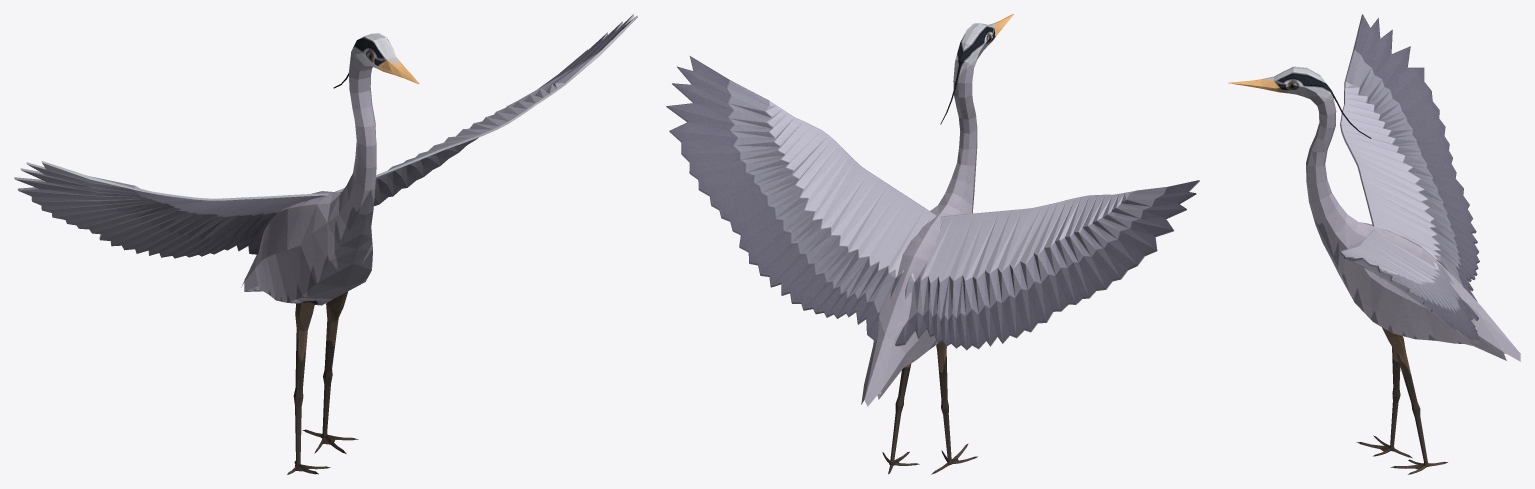
The model's file is Blue_Heron_01.FBX.
3 views of the same model, side by side, from view 1: azimuth 30°, elevation 25°; view 2: azimuth 150°, elevation 25°; view 3: azimuth 270°, elevation 25° (orthographic). The views are drawn at different scales.
Visible parts, largest first — view 1: Blue_Heron_01, Blue_Heron_Right_Wing_01, Blue_Heron_Left_Wing_01, Blue_Heron_Right_Leg_01, Blue_Heron_Left_Leg_01; view 2: Blue_Heron_Left_Wing_01, Blue_Heron_Right_Wing_01, Blue_Heron_01, Blue_Heron_Right_Leg_01, Blue_Heron_Left_Leg_01; view 3: Blue_Heron_Right_Wing_01, Blue_Heron_01, Blue_Heron_Left_Wing_01, Blue_Heron_Left_Leg_01, Blue_Heron_Right_Leg_01.
Boxes of the visible parts, x1,y1,x2,y2 form: Blue_Heron_01: (241, 33, 419, 305); Blue_Heron_Right_Wing_01: (14, 161, 329, 258); Blue_Heron_Left_Wing_01: (335, 14, 637, 206); Blue_Heron_Right_Leg_01: (287, 302, 330, 474); Blue_Heron_Left_Leg_01: (302, 291, 358, 453); Blue_Heron_Left_Wing_01: (666, 56, 936, 341); Blue_Heron_Right_Wing_01: (895, 180, 1199, 350); Blue_Heron_01: (861, 14, 1013, 406); Blue_Heron_Right_Leg_01: (931, 341, 977, 474); Blue_Heron_Left_Leg_01: (882, 363, 919, 474); Blue_Heron_Right_Wing_01: (1340, 14, 1479, 301); Blue_Heron_01: (1228, 66, 1520, 361); Blue_Heron_Left_Wing_01: (1340, 229, 1479, 343); Blue_Heron_Left_Leg_01: (1382, 327, 1447, 474); Blue_Heron_Right_Leg_01: (1356, 347, 1412, 458).
Size of the model in its own units: 35.07 by 26.06 by 17.44.
